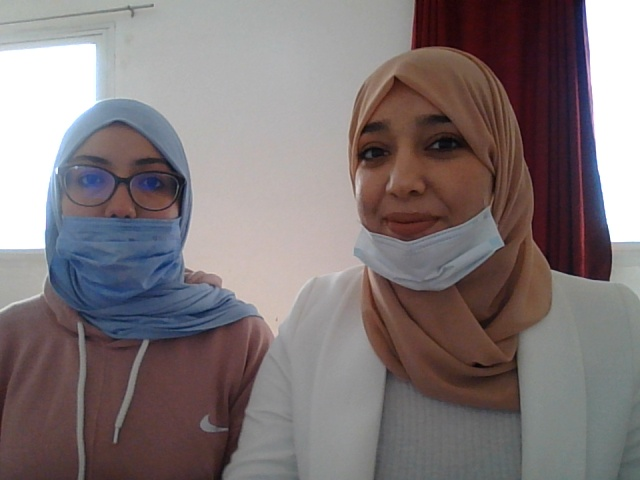mask_weared_incorrect: (336, 54, 511, 293), (49, 105, 199, 285)
